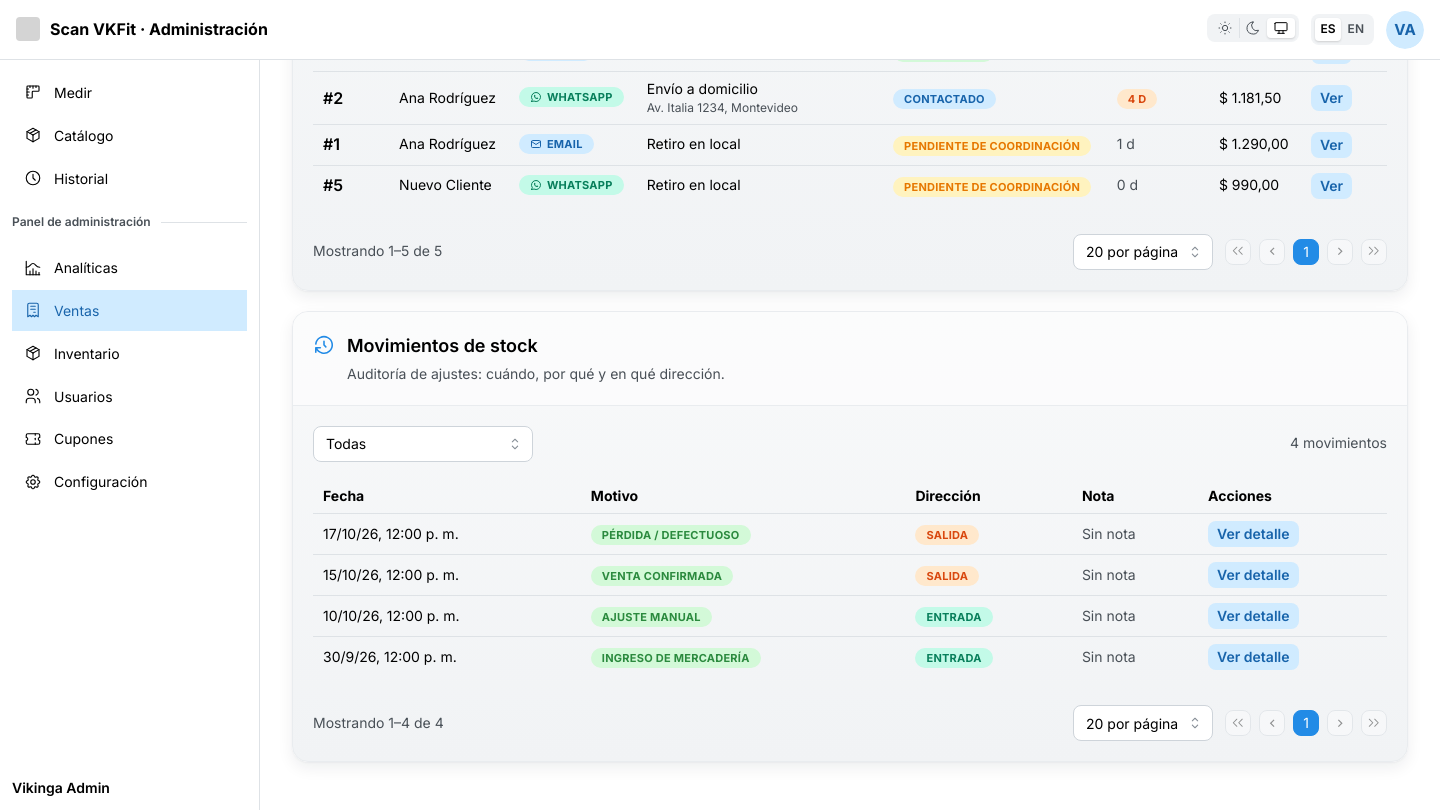
Test: movimientos › lista la auditoría y abre el detalle con sus líneas
(page scrolled)
Expected: the text "Movimientos de stock" is shown, [347,334,538,356]
Expected: the text "Entrada" in the row of "10/10/26, 12:00 p. m." is shown, [926,610,982,624]
Step 1. Click the button "Ver detalle" in the row of "17/10/26, 12:00 p. m." → (1253,534), box [1208,521,1298,547]
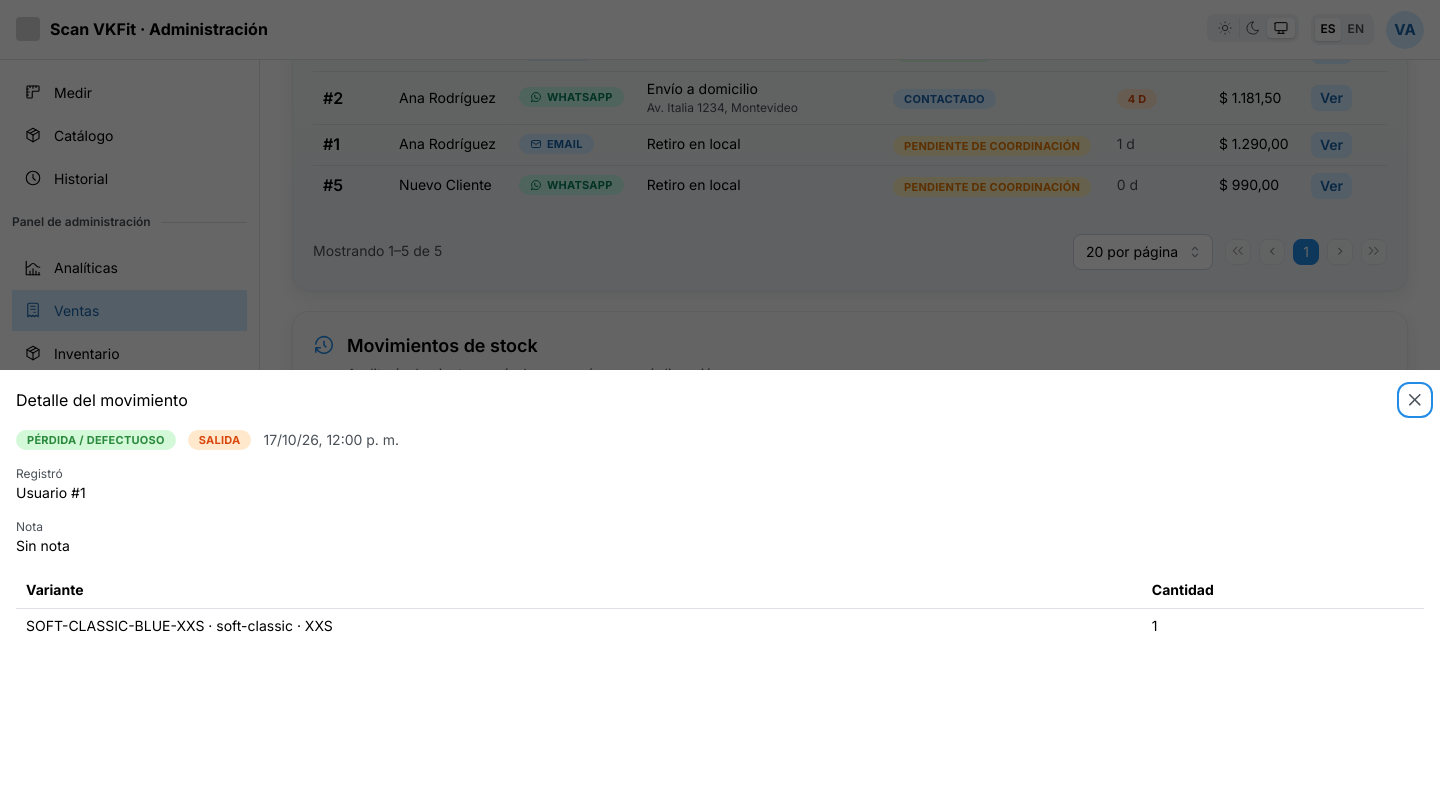
Result: the text "Usuario #1" is shown at [16,484,86,501]
Result: the column heading "Cantidad" is shown at [1142,572,1424,609]
